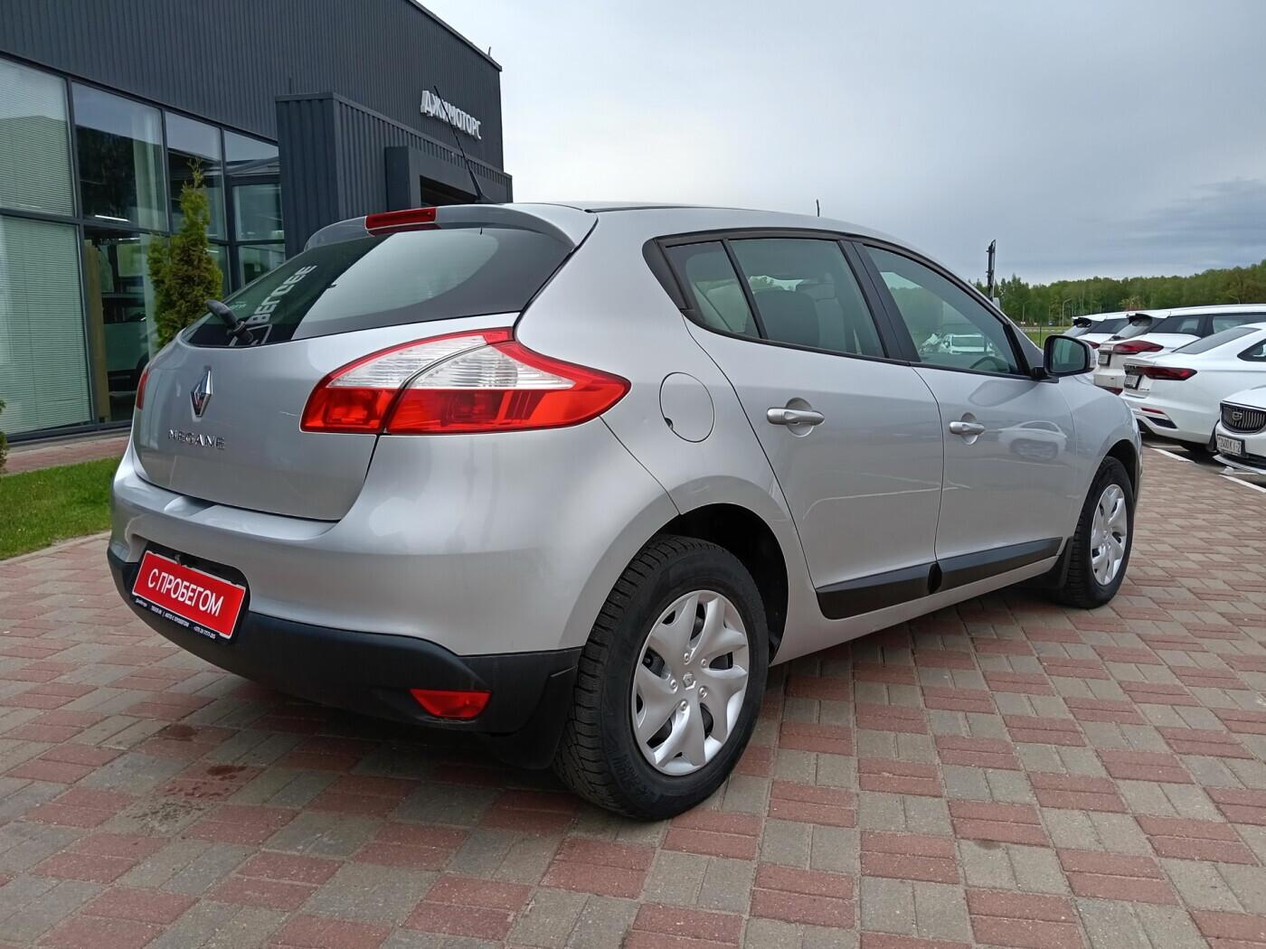Megane_2012-2014: (96, 199, 1150, 806)
